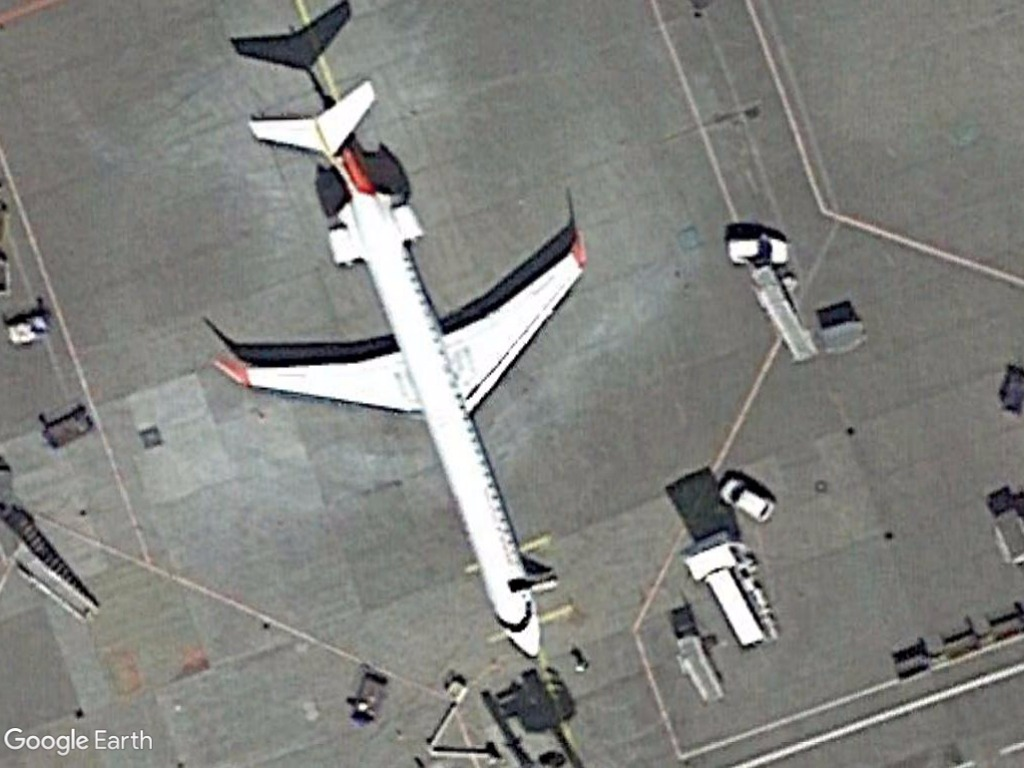car: (715, 476, 777, 527)
chartered: (194, 75, 600, 663)
